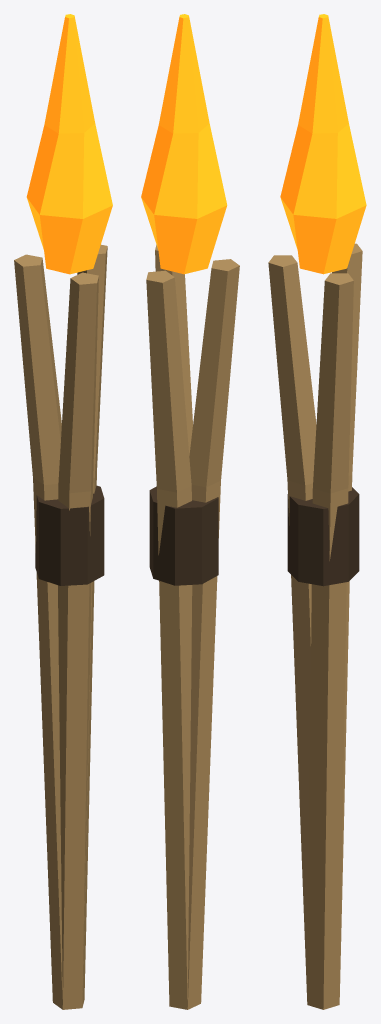
File: torch_bundle.glb
3 renders of one model, left to right at view 1: azimuth 30°, elevation 25°; view 2: azimuth 210°, elevation 25°; view 3: azimuth 270°, elevation 25°, orthographic.
Visible parts, largest first — view 1: Splinter2, Splinter1, Flame, Cord, Splinter0; view 2: Splinter0, Splinter1, Flame, Cord, Splinter2; view 3: Splinter0, Flame, Splinter2, Cord, Splinter1.
Part boxes in pixels (box(x1,y1,x2,y2)): Splinter2: box(58, 272, 98, 1009); Splinter1: box(14, 254, 62, 1009); Flame: box(26, 14, 112, 274); Cord: box(35, 485, 104, 585); Splinter0: box(77, 244, 107, 1007); Splinter0: box(146, 270, 192, 1009); Splinter1: box(187, 259, 239, 1009); Flame: box(141, 14, 227, 274); Cord: box(149, 486, 218, 585); Splinter2: box(155, 244, 192, 455); Splinter0: box(307, 273, 353, 1009); Flame: box(280, 14, 366, 274); Splinter2: box(268, 255, 316, 1001); Cord: box(287, 487, 359, 586); Splinter1: box(332, 243, 362, 996).
Size of the model in its own units: 0.0575 by 0.64 by 0.0577.
